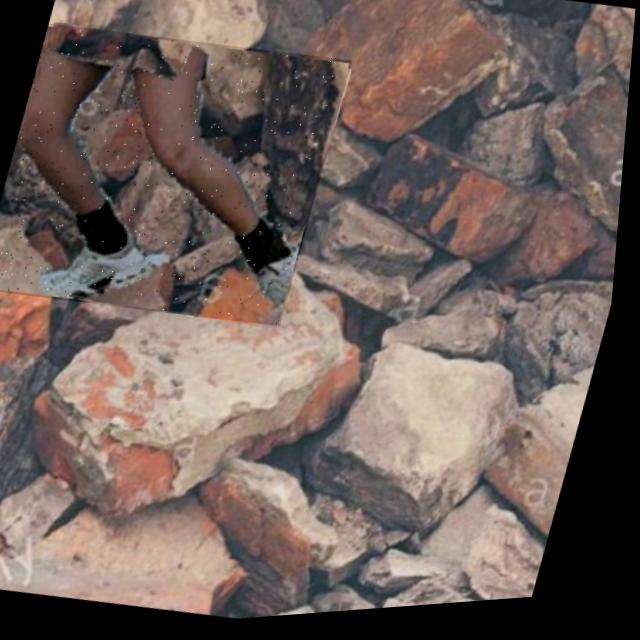Person in Rubble: (0, 7, 357, 350)
